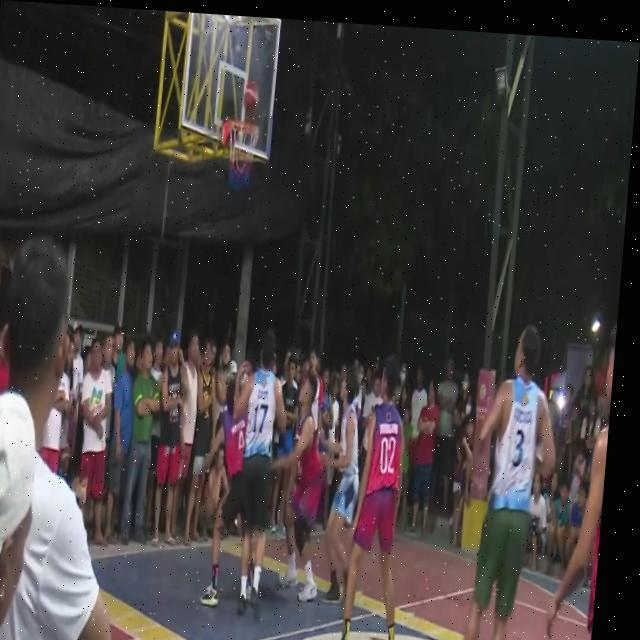basketball: (240, 79, 262, 118)
hoop: (216, 101, 265, 193)
